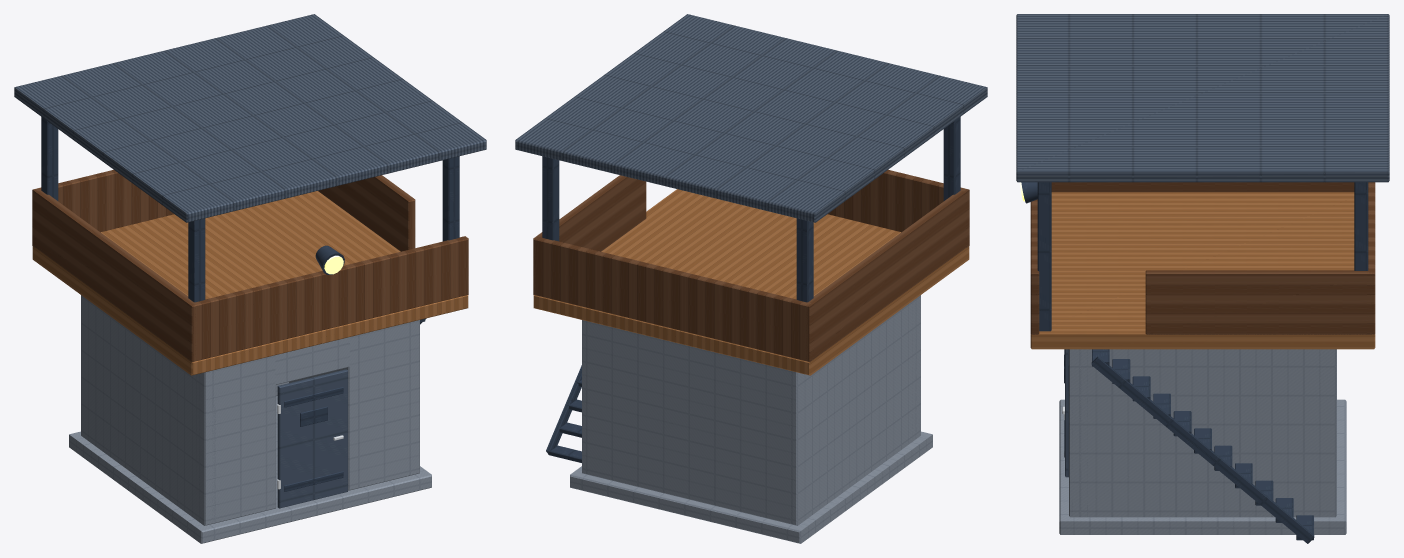
File: watchtower_building.glb
The picture shows the model from 3 angles, left to right: view 1: azimuth 30°, elevation 25°; view 2: azimuth 150°, elevation 25°; view 3: azimuth 270°, elevation 25°; orthographic projection. The views are drawn at different scales.
Parts seen in each view (by area): view 1: watchtower_building, tower_door_pivot; view 2: watchtower_building; view 3: watchtower_building, tower_door_pivot.
Boxes of the visible parts, left/top/right/bottom form: watchtower_building: left=14, top=14, right=486, bottom=543; tower_door_pivot: left=277, top=369, right=347, bottom=508; watchtower_building: left=515, top=14, right=987, bottom=543; watchtower_building: left=1016, top=14, right=1389, bottom=543; tower_door_pivot: left=1062, top=349, right=1068, bottom=477.
Bounding box in the file's own units: 5.92 × 6.59 × 5.85.
Materials: 8 (6 with a texture image).
